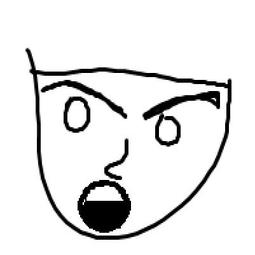empty_eye: (141, 107, 189, 157), (56, 96, 96, 137)
frowning_eyebrow: (43, 76, 128, 118), (143, 85, 225, 123)
nose: (99, 132, 139, 181)
open_mouth: (76, 178, 136, 233)
